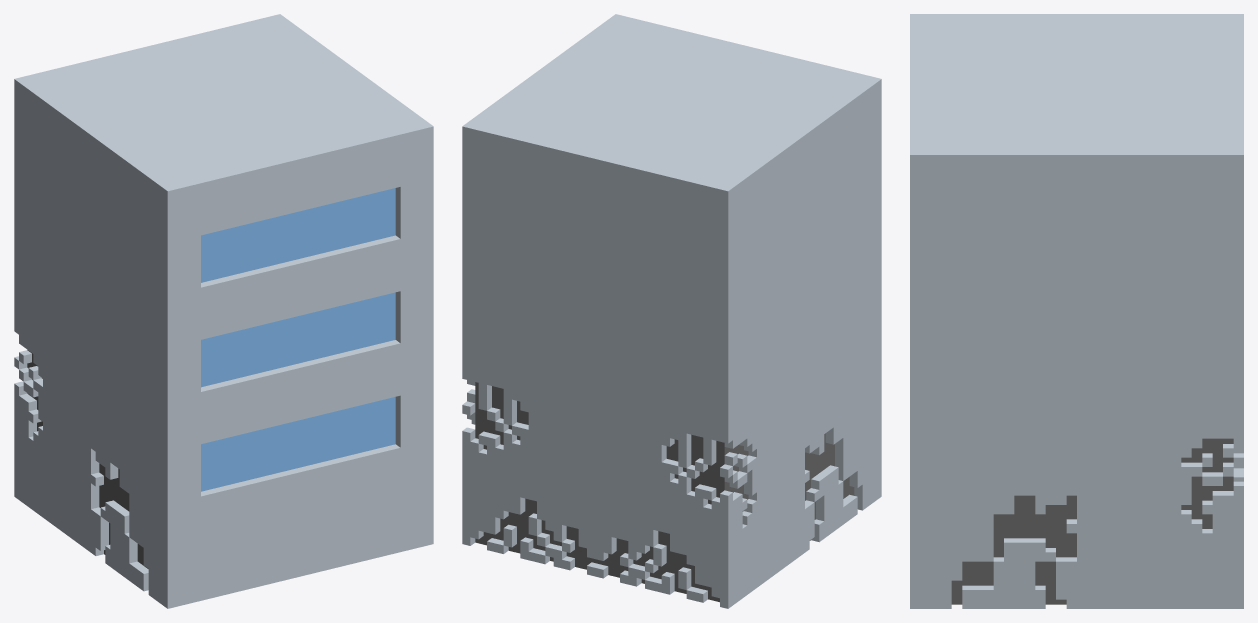
The model's file is billding1.obj.
The picture shows the model from 3 angles, left to right: view 1: azimuth 30°, elevation 25°; view 2: azimuth 150°, elevation 25°; view 3: azimuth 270°, elevation 25°; orthographic projection. The views are drawn at different scales.
Bounding box in the file's own units: 3.2 × 4.8 × 3.2.
Materials: 1 (1 with a texture image).
